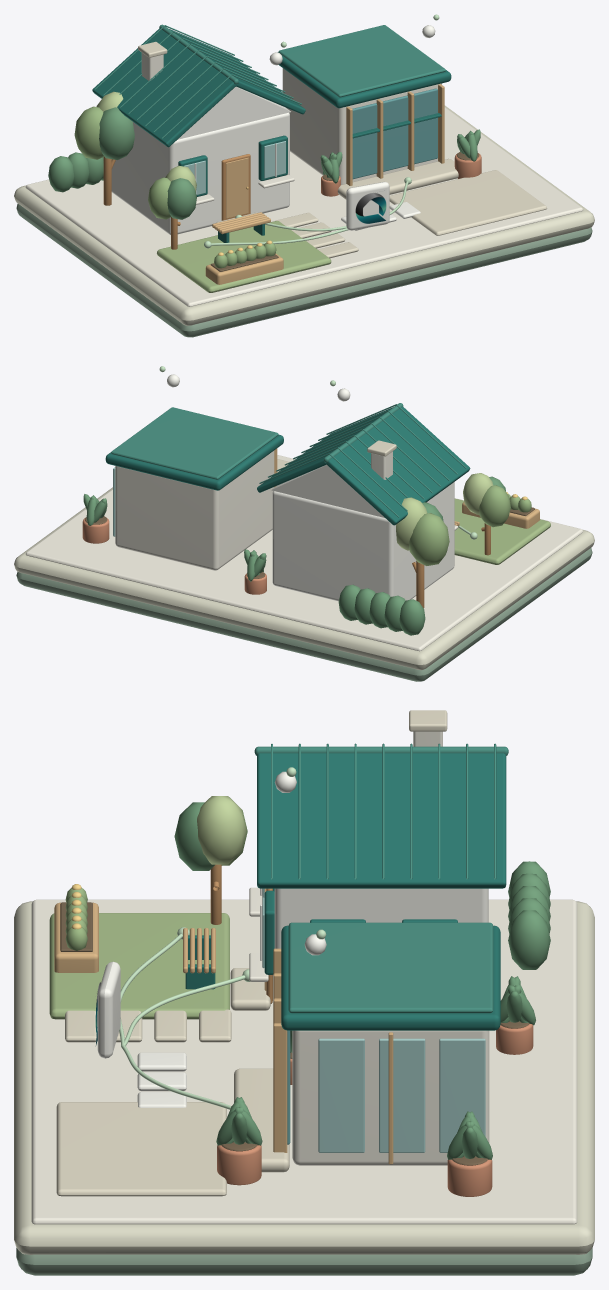
The model's file is loqelo-world.glb.
The picture shows the model from 3 angles, top to bottom: view 1: azimuth 30°, elevation 25°; view 2: azimuth 150°, elevation 25°; view 3: azimuth 270°, elevation 25°; orthographic projection. The views are drawn at different scales.
Parts seen in each view (by area): view 1: Upper warm stone inlay, Rounded limestone island, Home plaster walls, Standing seam roof panel, Floating island underside, Workspace roof coping, Office courtyard, Workspace front glass, Garden lawn, Workspace plaster volume, Cream gable, Workspace flat green roof (+23 smaller); view 2: Upper warm stone inlay, Home plaster walls, Workspace plaster volume, Rounded limestone island, Standing seam roof panel, Floating island underside, Workspace roof coping, Garden lawn, Cream gable, Workspace flat green roof, Soft tree canopy, Standing seam roof panel.001 (+12 smaller); view 3: Upper warm stone inlay, Standing seam roof panel.001, Rounded limestone island, Workspace roof coping, Office courtyard, Floating island underside, Garden lawn, Workspace plaster volume, Home plaster walls, Workspace side glass, Workspace flat green roof, Workspace side glass.001 (+22 smaller).
Part boxes in pixels (bbox=[...]): Upper warm stone inlay: bbox=[25, 107, 583, 306]; Rounded limestone island: bbox=[14, 105, 594, 325]; Home plaster walls: bbox=[111, 112, 289, 235]; Standing seam roof panel: bbox=[92, 28, 236, 147]; Floating island underside: bbox=[16, 203, 592, 337]; Workspace roof coping: bbox=[278, 25, 445, 97]; Office courtyard: bbox=[389, 170, 546, 235]; Workspace front glass: bbox=[352, 88, 437, 179]; Garden lawn: bbox=[157, 221, 331, 292]; Workspace plaster volume: bbox=[282, 68, 441, 184]; Cream gable: bbox=[177, 86, 290, 139]; Workspace flat green roof: bbox=[277, 52, 451, 108]; Upper warm stone inlay: bbox=[25, 455, 583, 651]; Home plaster walls: bbox=[272, 482, 454, 601]; Workspace plaster volume: bbox=[115, 450, 274, 570]; Rounded limestone island: bbox=[14, 487, 594, 670]; Standing seam roof panel: bbox=[326, 406, 470, 525]; Floating island underside: bbox=[16, 548, 592, 681]; Workspace roof coping: bbox=[111, 407, 278, 479]; Garden lawn: bbox=[454, 498, 550, 564]; Cream gable: bbox=[271, 464, 384, 517]; Workspace flat green roof: bbox=[105, 434, 283, 490]; Soft tree canopy: bbox=[409, 513, 449, 565]; Standing seam roof panel.001: bbox=[257, 407, 393, 492]; Upper warm stone inlay: bbox=[31, 899, 577, 1224]; Standing seam roof panel.001: bbox=[257, 753, 506, 888]; Rounded limestone island: bbox=[14, 901, 594, 1254]; Workspace roof coping: bbox=[288, 922, 493, 1013]; Office courtyard: bbox=[56, 1102, 226, 1196]; Floating island underside: bbox=[16, 1248, 592, 1275]; Garden lawn: bbox=[49, 913, 229, 1019]; Workspace plaster volume: bbox=[292, 1030, 489, 1165]; Home plaster walls: bbox=[274, 888, 488, 948]; Workspace side glass: bbox=[318, 1038, 364, 1152]; Workspace flat green roof: bbox=[281, 925, 500, 1030]; Workspace side glass.001: bbox=[379, 1038, 425, 1152].
Size of the model in its own units: 8.55 by 3.88 by 6.25.
21 materials, 1 textured.
